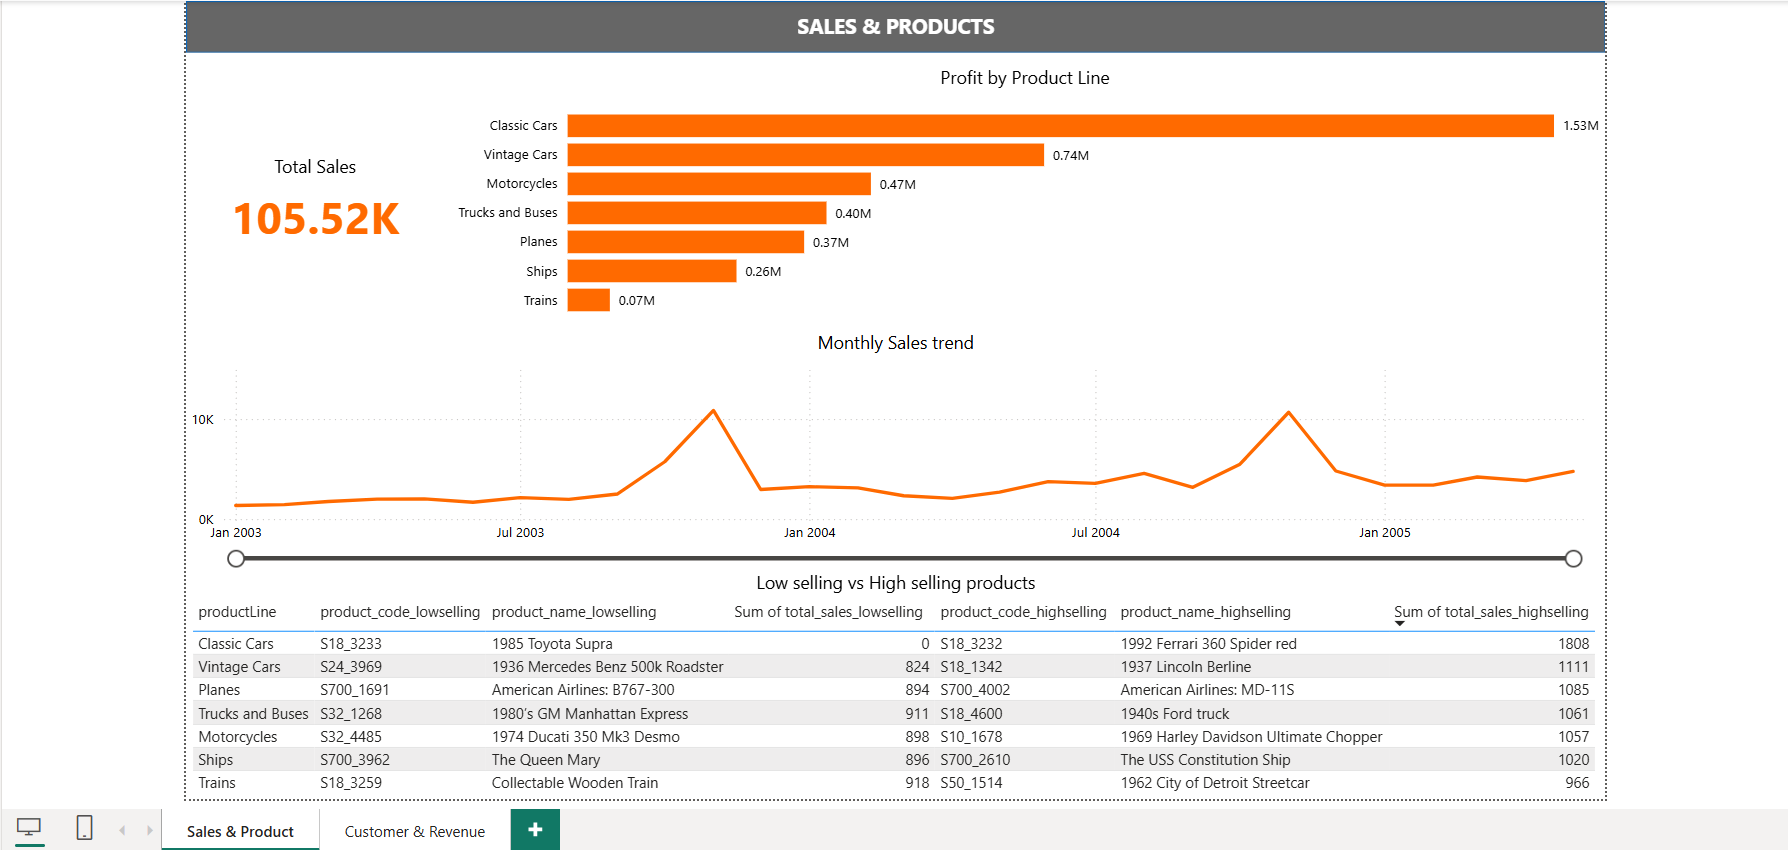

The page's visual inventory and layout, read from the dashboard file:
{"tool":"powerbi","page":{"name":"Sales & Product","canvas":[1280,720],"ordinal":0},"visuals":[{"type":"shape","box":[0,0,1280,46.7],"z":1000},{"type":"textbox","box":[0,4.8,1280,38.4],"z":2000},{"type":"lineChart","title":"Monthly Sales trend","fields":{"Y":["Sum(Query 6.total_sales)"],"Category":["Query 6.year_months.Variation.Date Hierarchy.Year","Query 6.year_months.Variation.Date Hierarchy.Month"]},"box":[0,296,1280,216.9],"z":3000},{"type":"barChart","title":"Profit by Product Line","fields":{"Category":["Query 4.productLine"],"Y":["Sum(Query 4.total_profit)"]},"box":[233.7,57.5,1046.3,238.5],"z":5000},{"type":"tableEx","title":"Low selling vs High selling products","fields":{"Values":["Query 5.productLine","Query 5.product_code_lowselling","Query 5.product_name_lowselling","Sum(Query 5.total_sales_lowselling)","Query 5.product_code_highselling","Query 5.product_name_highselling","Sum(Query 5.total_sales_highselling)"]},"box":[0,513,1280,207.3],"z":6000},{"type":"cardVisual","fields":{"Data":["Sum(total_sales.total_sales)"]},"box":[0,121,233.7,113.9],"z":10000}]}

Visuals, with their boxes on the page's 1280x720 design canvas (x1, y1, x2, y2). These are canvas units, not pixel positions in the 1788x850 screenshot, which may show the page scaled, cropped or inside an application window:
shape: detection(0, 0, 1280, 47)
textbox: detection(0, 5, 1280, 43)
"Monthly Sales trend" lineChart: detection(0, 296, 1280, 513)
"Profit by Product Line" barChart: detection(234, 58, 1280, 296)
"Low selling vs High selling products" tableEx: detection(0, 513, 1280, 720)
cardVisual - Sum(total_sales.total_sales): detection(0, 121, 234, 235)
